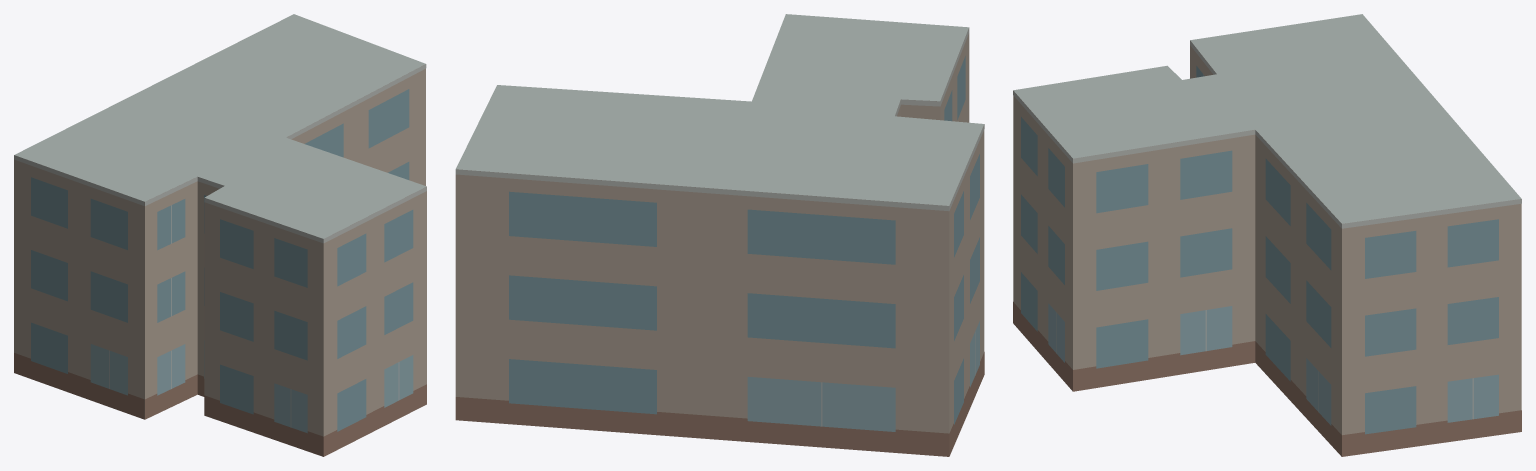
Rendered from survey-upis-32625153.glb.
The picture shows the model from 3 angles, left to right: view 1: azimuth 30°, elevation 25°; view 2: azimuth 150°, elevation 25°; view 3: azimuth 270°, elevation 25°; orthographic projection. The views are drawn at different scales.
Parts seen in each view (by area): view 1: survey-upis-32625153.tmp; view 2: survey-upis-32625153.tmp; view 3: survey-upis-32625153.tmp.
Part boxes in pixels (x1=…): survey-upis-32625153.tmp: x1=14, y1=14, x2=426, y2=456; survey-upis-32625153.tmp: x1=455, y1=14, x2=984, y2=456; survey-upis-32625153.tmp: x1=1013, y1=14, x2=1521, y2=456.
Size of the model in its own units: 22.61 by 11.7 by 23.16.
